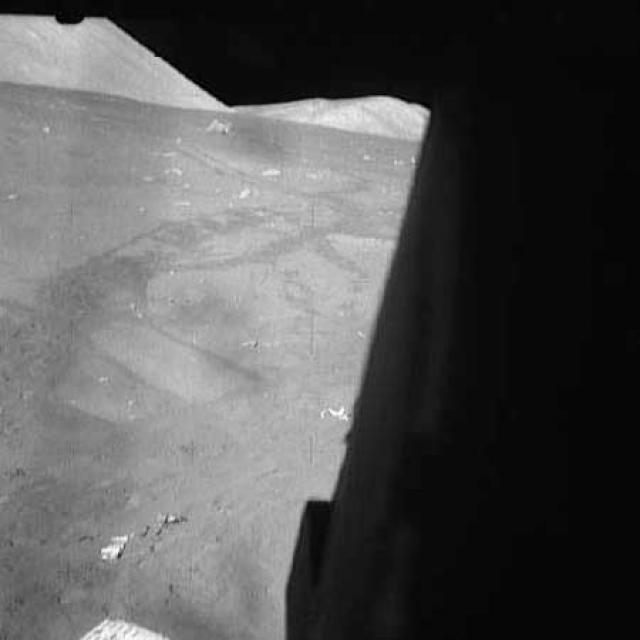rock: (197, 115, 239, 140)
